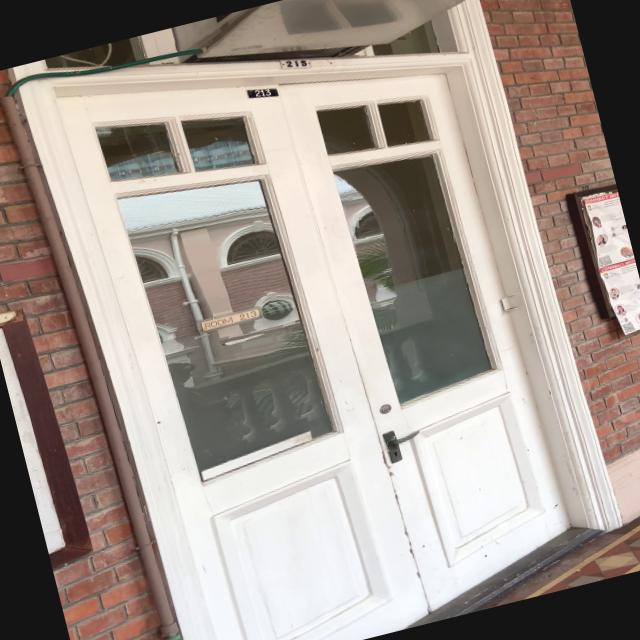room213: (243, 78, 280, 104)
room213Window: (193, 298, 270, 336)
